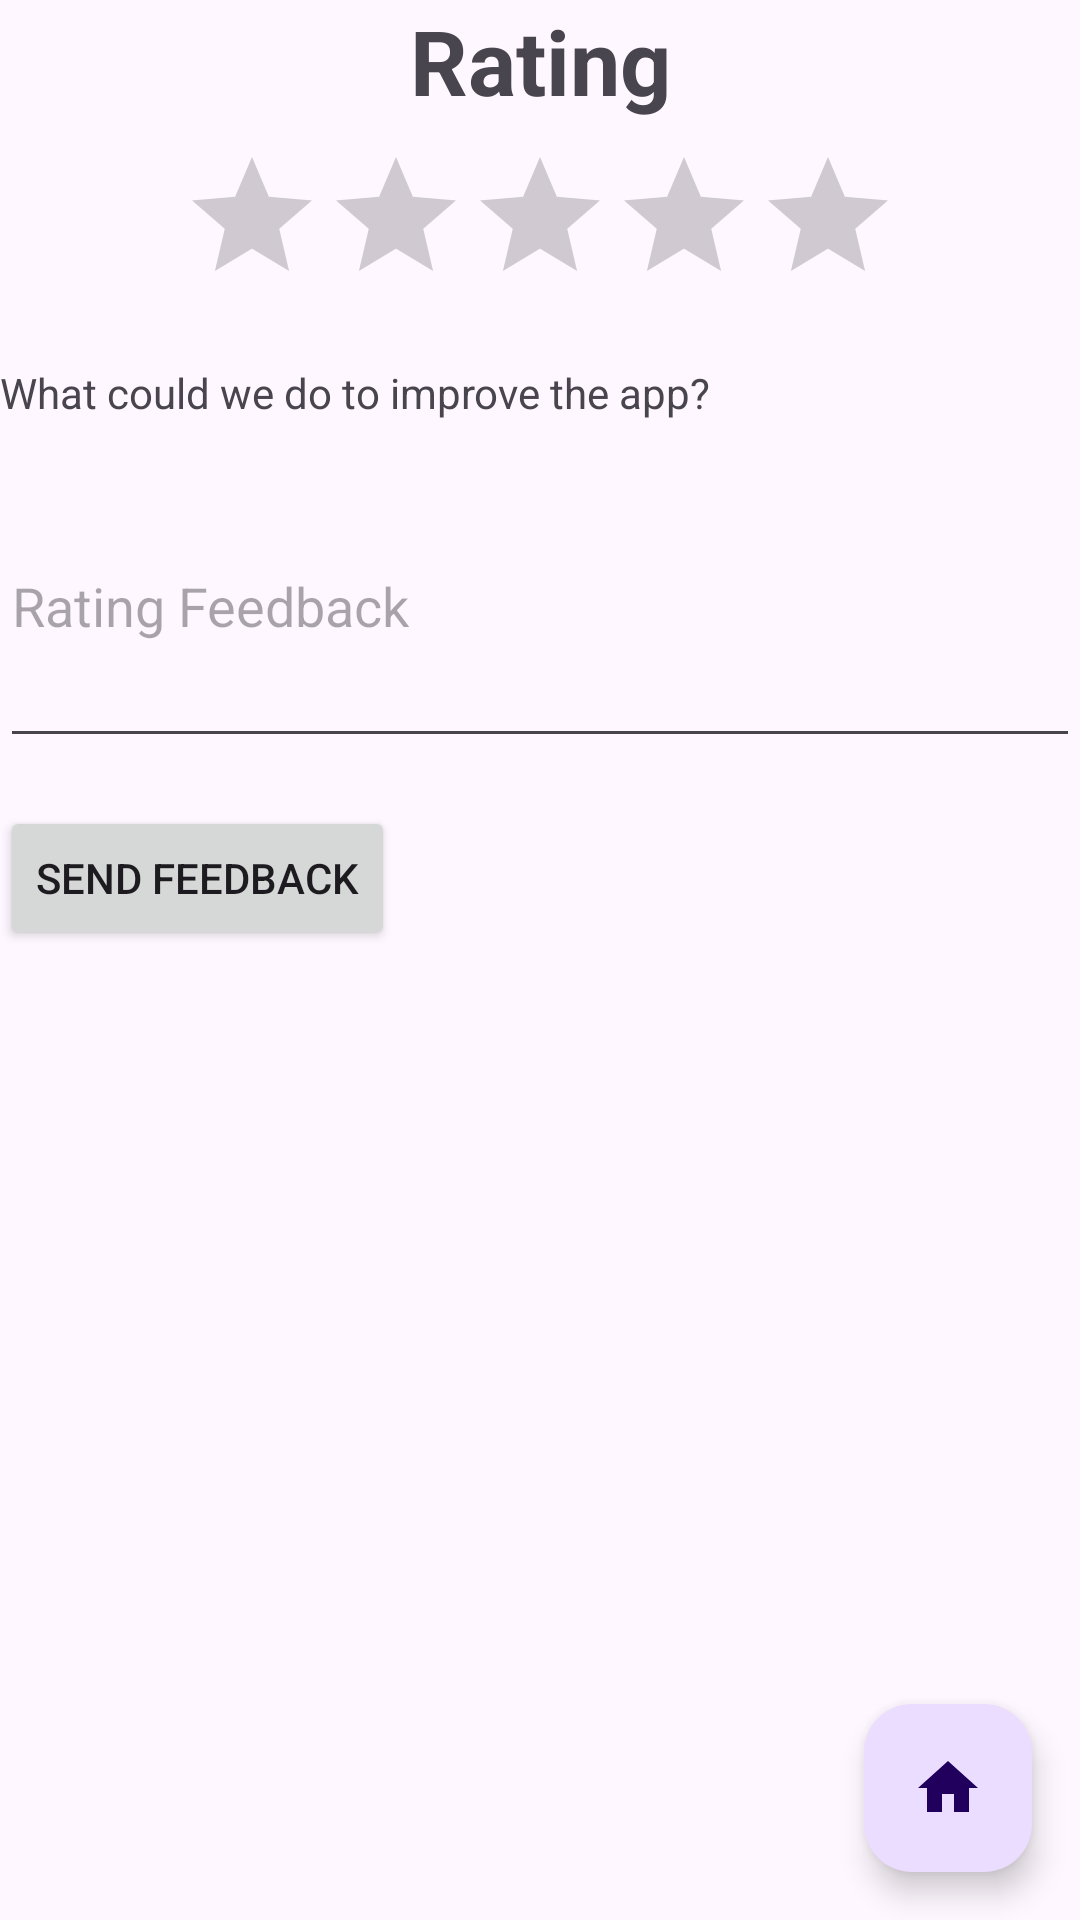

Where icons sit on this 1080x1920 app screen, as box=[x1, y1, x2, y2]:
Home button: box=[864, 1704, 1032, 1872]
